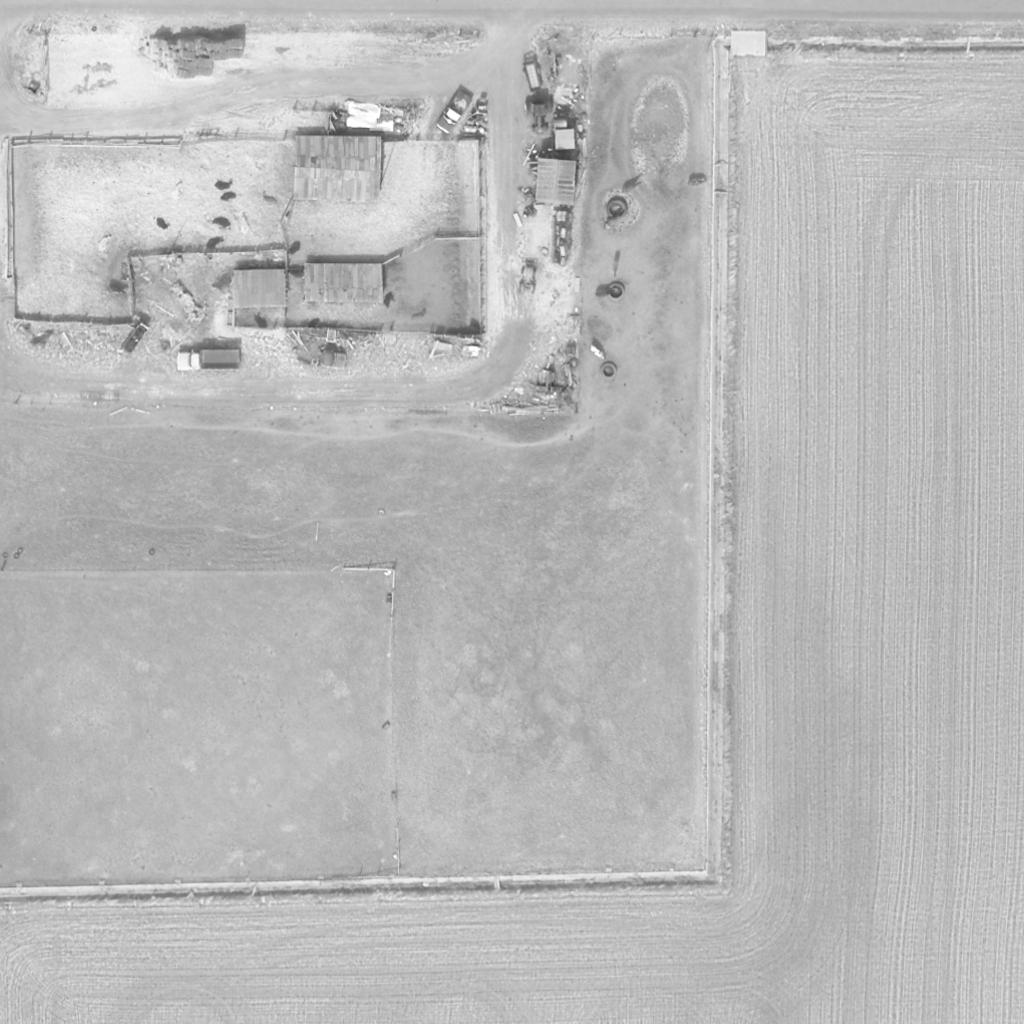vehicle: (435, 90, 473, 134), (175, 349, 241, 373), (523, 97, 553, 133)
